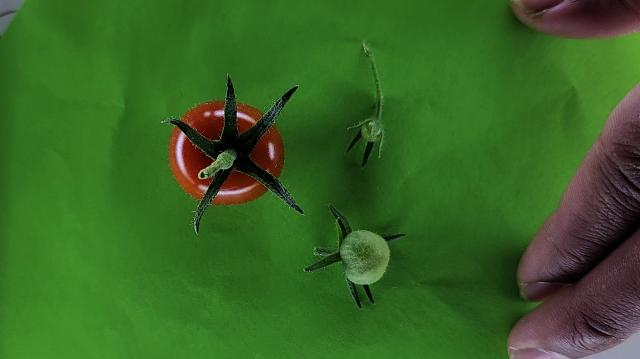Fully Grown: (165, 100, 287, 210)
